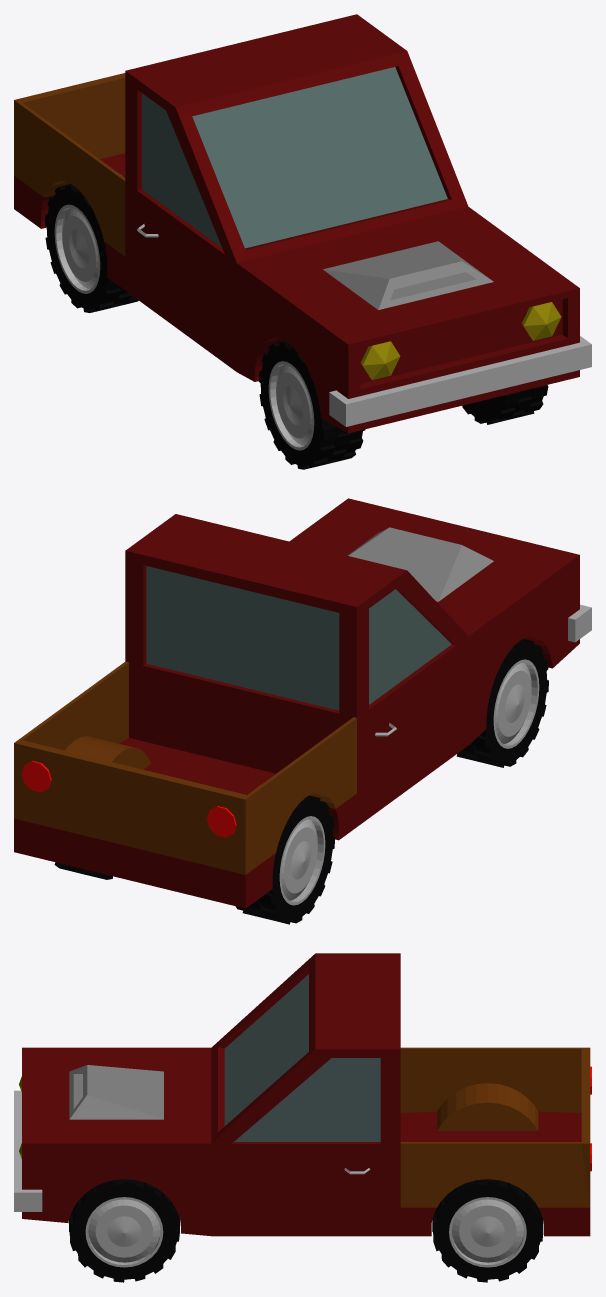
The model's file is Truck.glb.
3 views of the same model, one above another, from view 1: azimuth 30°, elevation 25°; view 2: azimuth 150°, elevation 25°; view 3: azimuth 270°, elevation 25° (orthographic). The views are drawn at different scales.
Visible parts, largest first — view 1: Truck, Trunk, Bumper, Cylinder.002, Cylinder.003, Cylinder.001, RHeadlight, lHeadlight; view 2: Truck, Trunk, Cylinder.002, Cylinder.003, LStopLight, RStopLight, Bumper; view 3: Truck, Trunk, Cylinder, Cylinder.001, Bumper.
Boxes of the visible parts, left/top/right/bottom form: Truck: left=14, top=14, right=579, bottom=433; Trunk: left=14, top=73, right=125, bottom=256; Bumper: left=329, top=336, right=591, bottom=426; Cylinder.002: left=258, top=340, right=365, bottom=469; Cylinder.003: left=45, top=184, right=138, bottom=312; Cylinder.001: left=462, top=385, right=548, bottom=424; RHeadlight: left=360, top=341, right=400, bottom=380; lHeadlight: left=521, top=302, right=561, bottom=340; Truck: left=14, top=498, right=579, bottom=908; Trunk: left=14, top=661, right=356, bottom=874; Cylinder.002: left=456, top=639, right=548, bottom=767; Cylinder.003: left=235, top=795, right=335, bottom=924; LStopLight: left=21, top=761, right=51, bottom=792; RStopLight: left=207, top=806, right=236, bottom=837; Bumper: left=568, top=604, right=591, bottom=642; Truck: left=22, top=953, right=590, bottom=1236; Trunk: left=400, top=1047, right=590, bottom=1207; Cylinder: left=432, top=1179, right=543, bottom=1282; Cylinder.001: left=69, top=1179, right=179, bottom=1282; Bumper: left=14, top=1090, right=42, bottom=1211.
Size of the model in its own units: 1.74 by 1.82 by 4.07.
